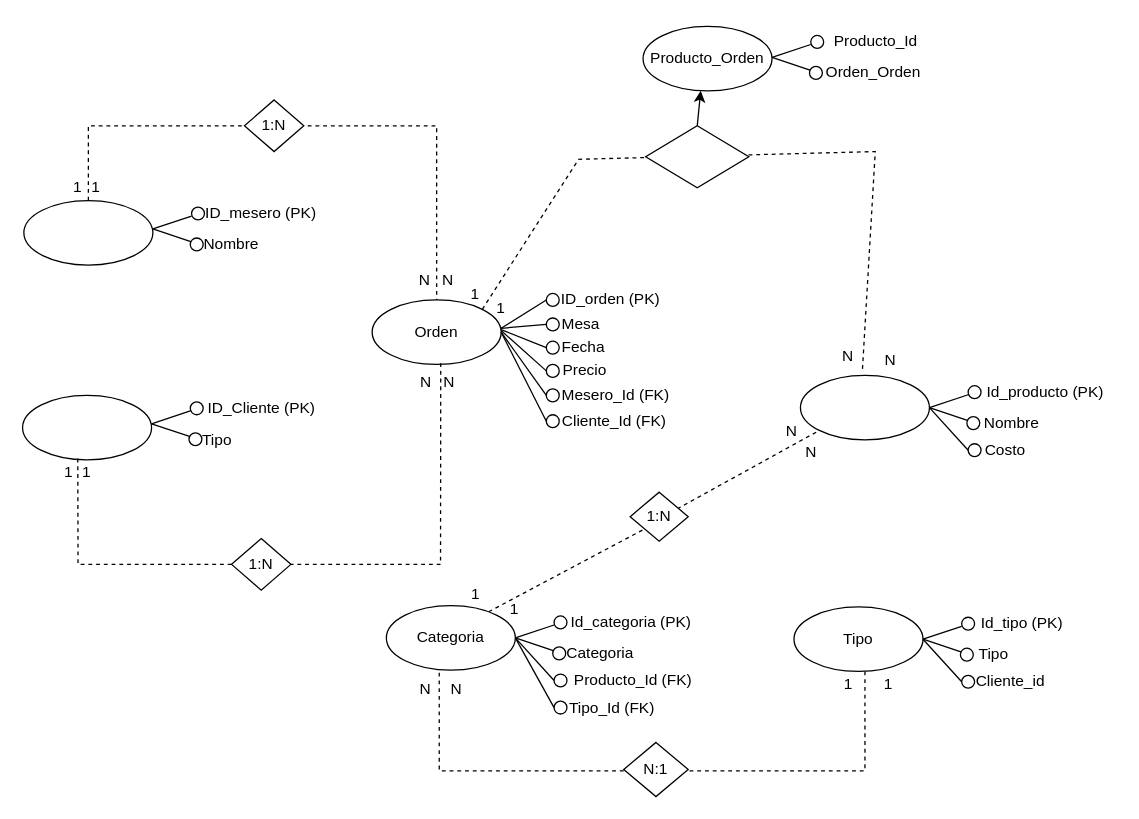
The diagram is 1139 pixels wide and 819 high, and some of its shapes have lost their labels. The box of each missing label's shape, as (x1, y1, x2, y2) in pixels:
Cliente: (21, 394, 152, 460)
Mesero: (23, 199, 153, 265)
N:N: (644, 124, 749, 188)
Producto: (799, 374, 929, 440)
